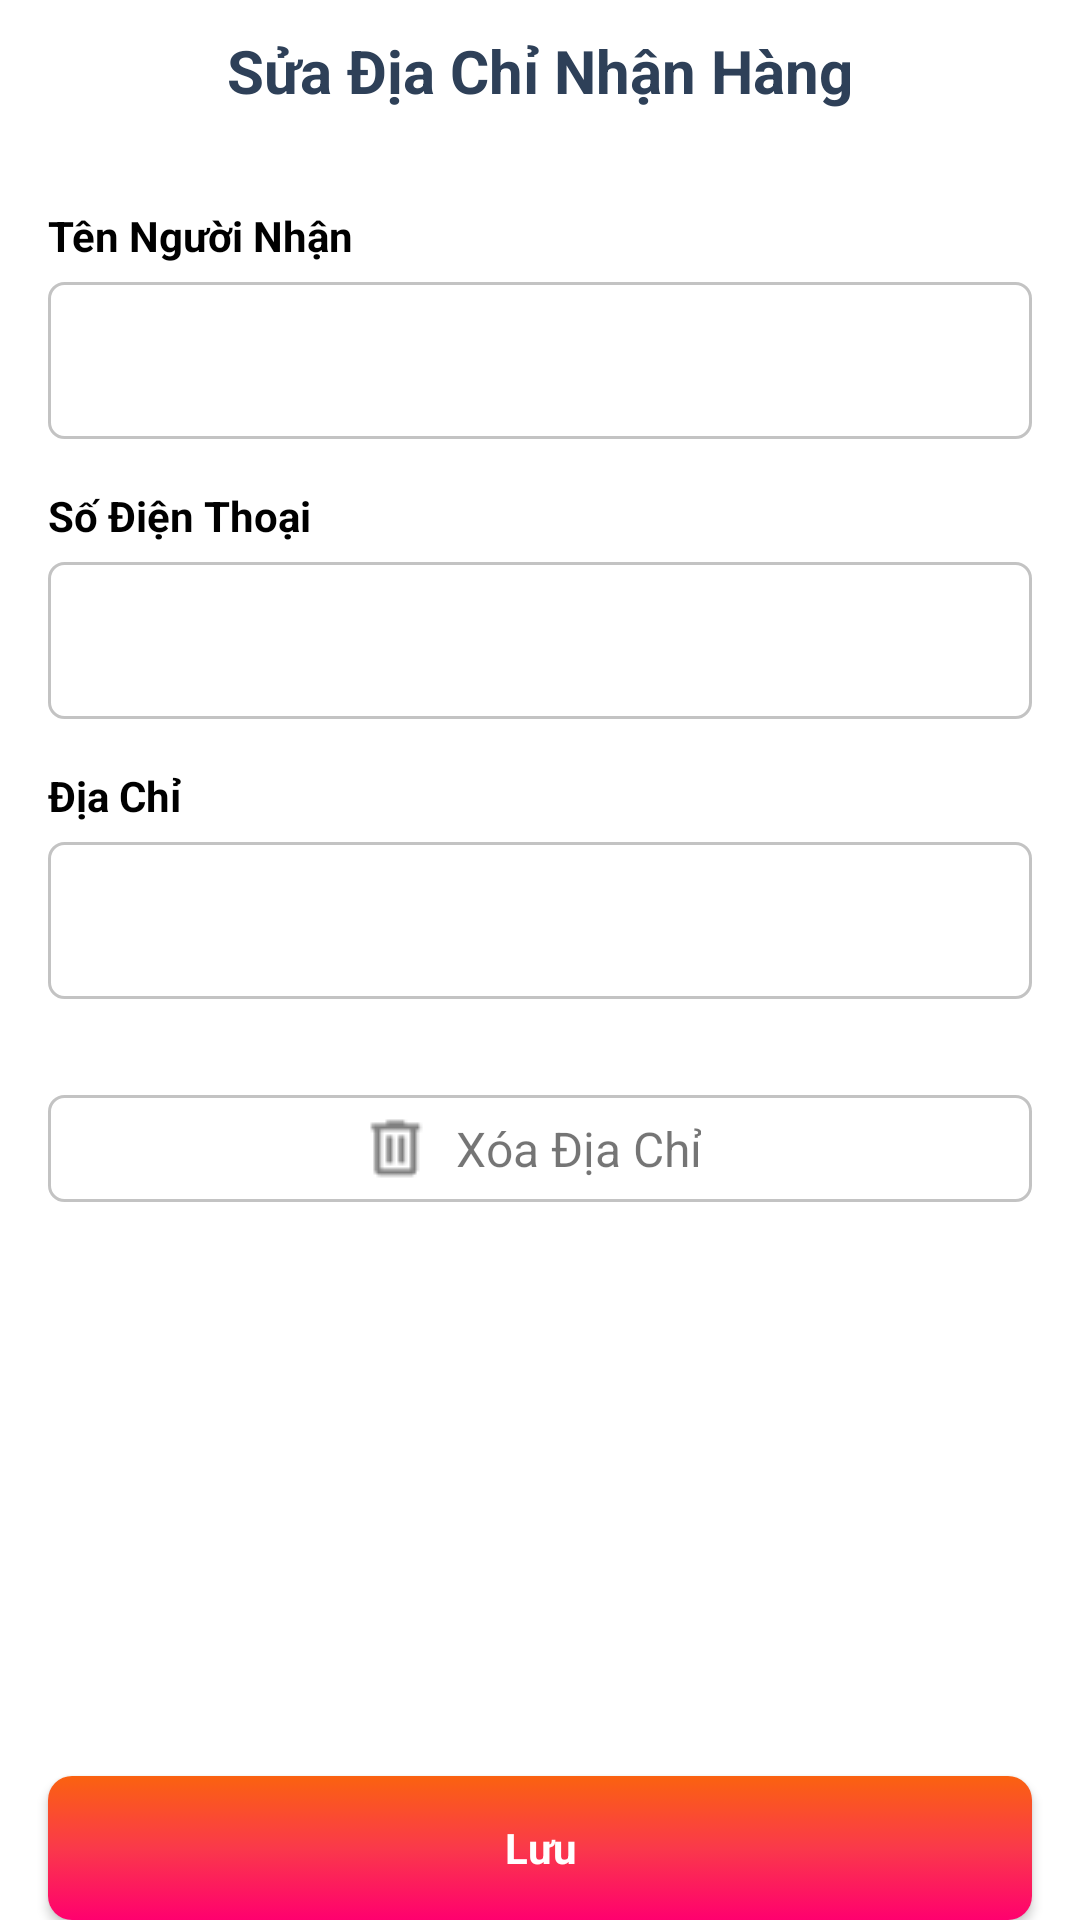

Where to tap for icons on this 1080x1920 app screen, as (x,y):
delete: (395,1148)
